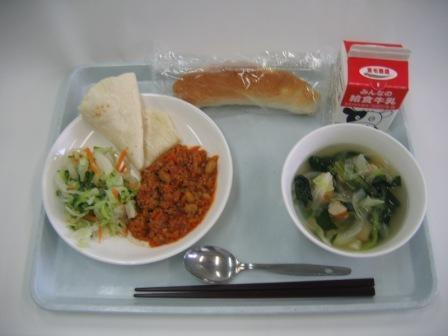Bread: (149, 47, 324, 121)
Milk: (328, 34, 422, 135)
Salad: (47, 137, 139, 239)
Soups: (284, 130, 424, 250)
cooked food based on meat: (127, 151, 227, 247)
lavash: (65, 76, 169, 152)
